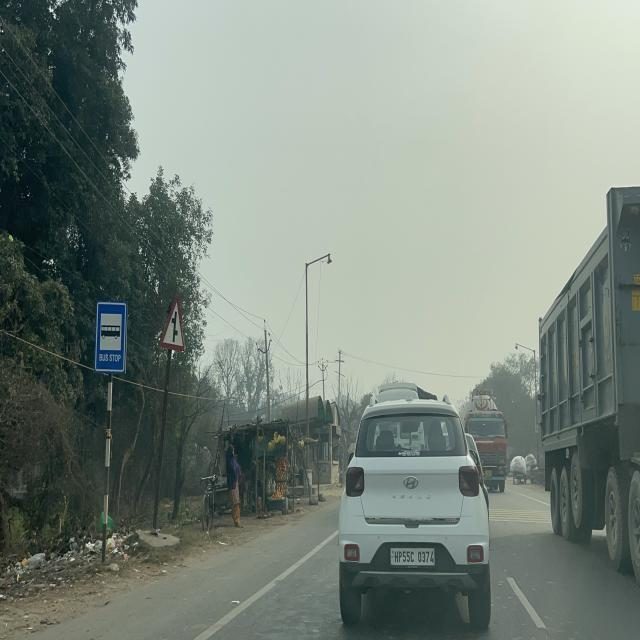INFORMATION: (94, 298, 128, 374)
STAGGERED_INTERSECTION: (159, 294, 185, 352)
